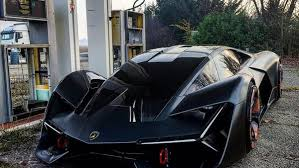Lamborghini: (45, 46, 278, 155)
